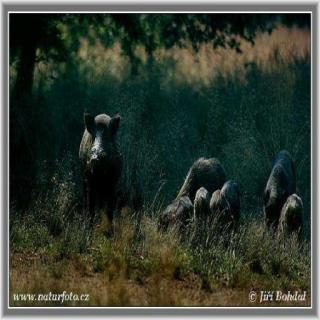Pig: (69, 99, 151, 221)
